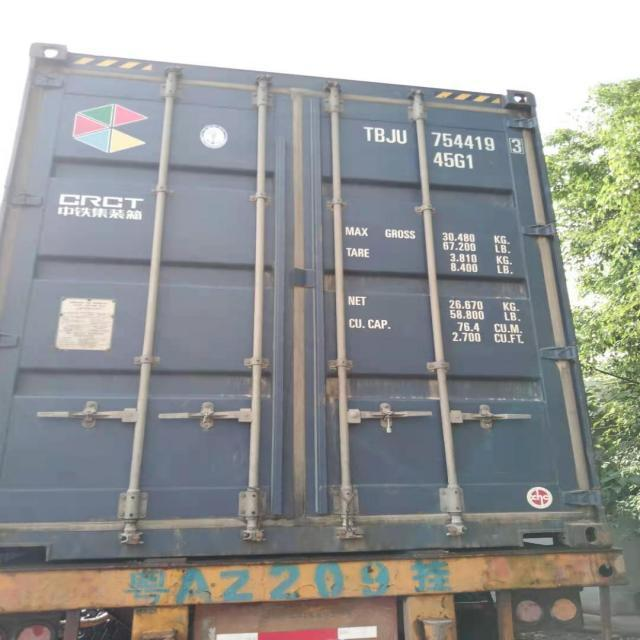ISO: (434, 150, 474, 172)
container_number: (364, 127, 532, 152)
